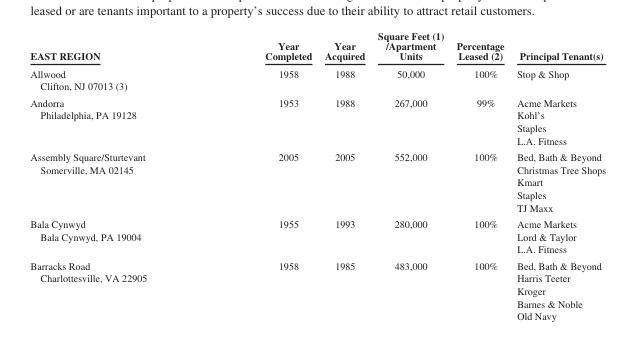table: (29, 29, 605, 321)
table column: (29, 29, 205, 321), (205, 29, 317, 321), (509, 29, 605, 321), (370, 29, 449, 321), (449, 29, 509, 321), (317, 29, 370, 321)
table column header: (29, 29, 605, 64)
table row: (29, 148, 605, 215), (29, 257, 605, 321), (29, 94, 605, 148), (29, 215, 605, 257), (29, 29, 605, 64), (29, 64, 605, 94)
